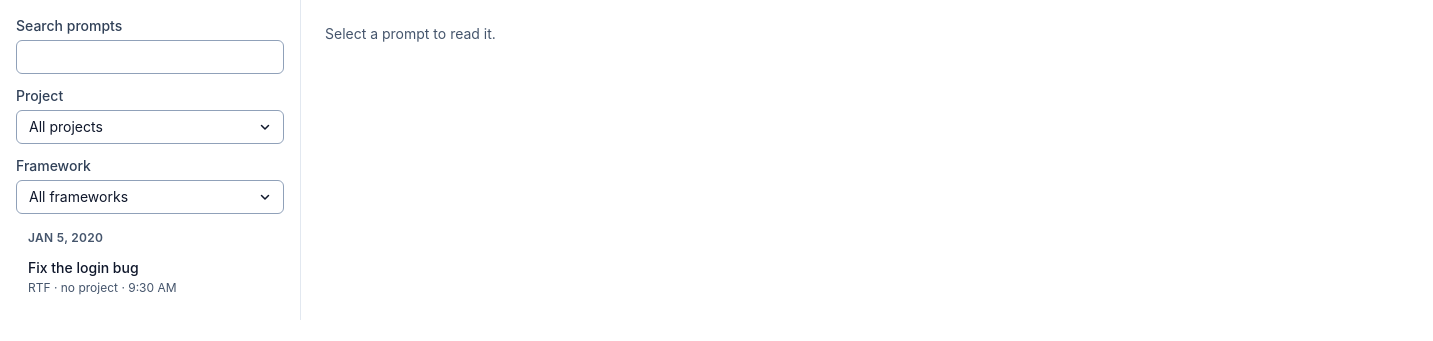
EntryDetail › prompt_toggle_shows_the_saved_text_exactly
Click the button "Fix the login bug RTF · no project · 9:30 AM".
click(150, 277)  # box top-left (16, 250), bottom-right (284, 304)
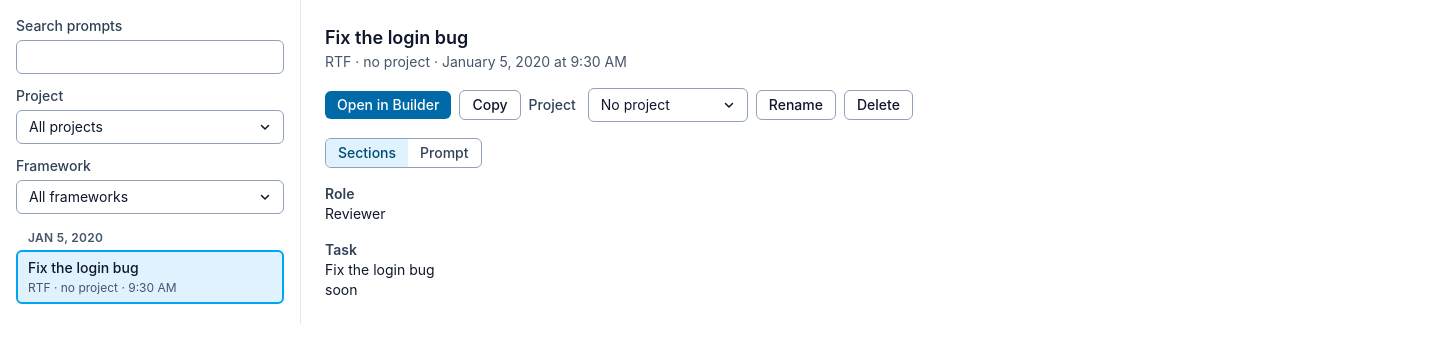
Click the radio button labelled "Prompt".
click(444, 153)  # box top-left (408, 139), bottom-right (481, 167)
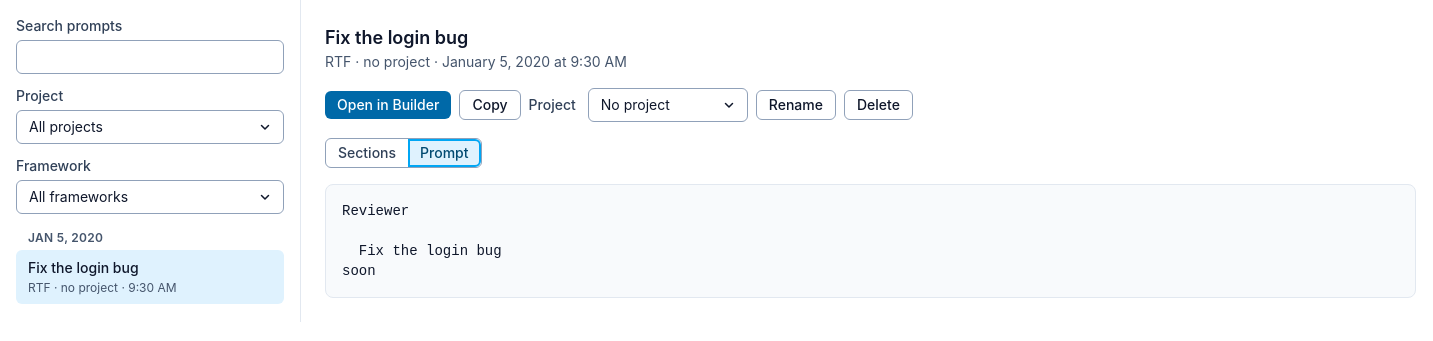
Click the radio button labelled "Sections".
click(367, 153)  # box top-left (326, 139), bottom-right (408, 167)
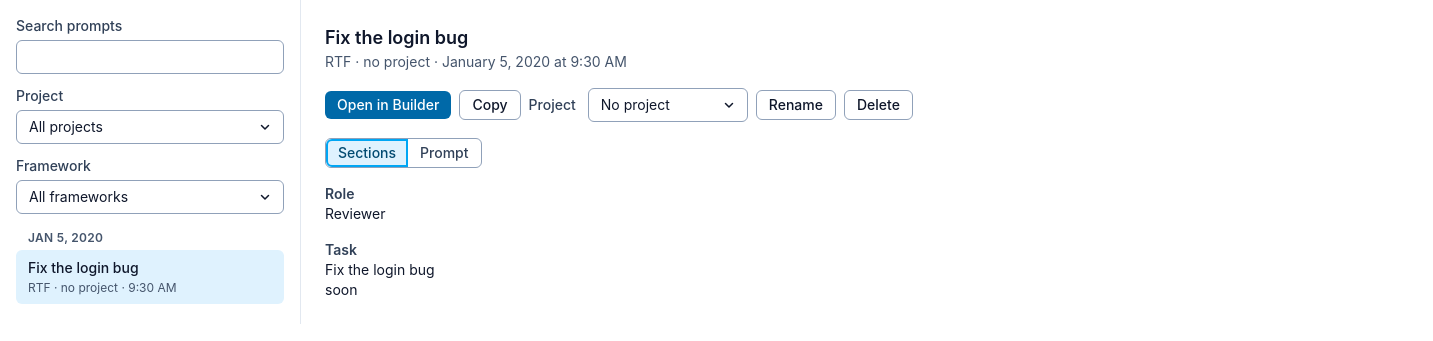
Check: the text with test id "saved-prompt" is gone
